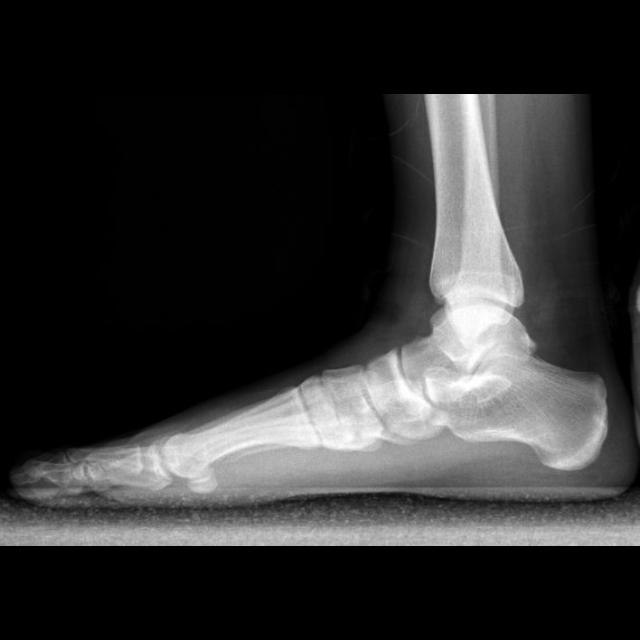a: (428, 352, 606, 472)
b: (363, 349, 441, 440)
c: (163, 388, 321, 479)
